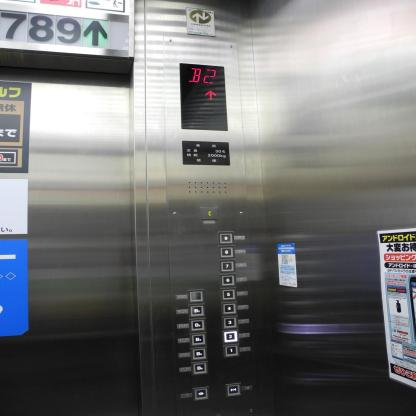1: (222, 343, 240, 358)
2: (221, 329, 239, 344)
3: (222, 316, 238, 329)
4: (221, 301, 238, 316)
5: (220, 287, 236, 301)
6: (219, 274, 236, 286)
7: (218, 260, 236, 272)
8: (218, 245, 235, 259)
9: (217, 231, 234, 245)
B2: (188, 304, 205, 317)
B3: (189, 318, 206, 331)
B4: (189, 332, 207, 347)
B5: (190, 346, 207, 361)
B6: (191, 360, 208, 375)
call: (200, 208, 217, 219)
close: (224, 382, 242, 397)
empty: (187, 289, 204, 304)
led: (179, 64, 229, 131)
open: (192, 386, 209, 402)
